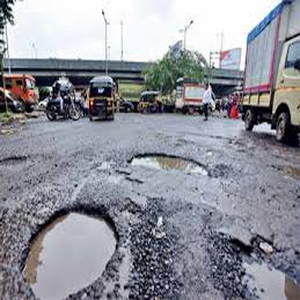pothole: (14, 198, 120, 300), (215, 233, 298, 300), (129, 151, 212, 180)
